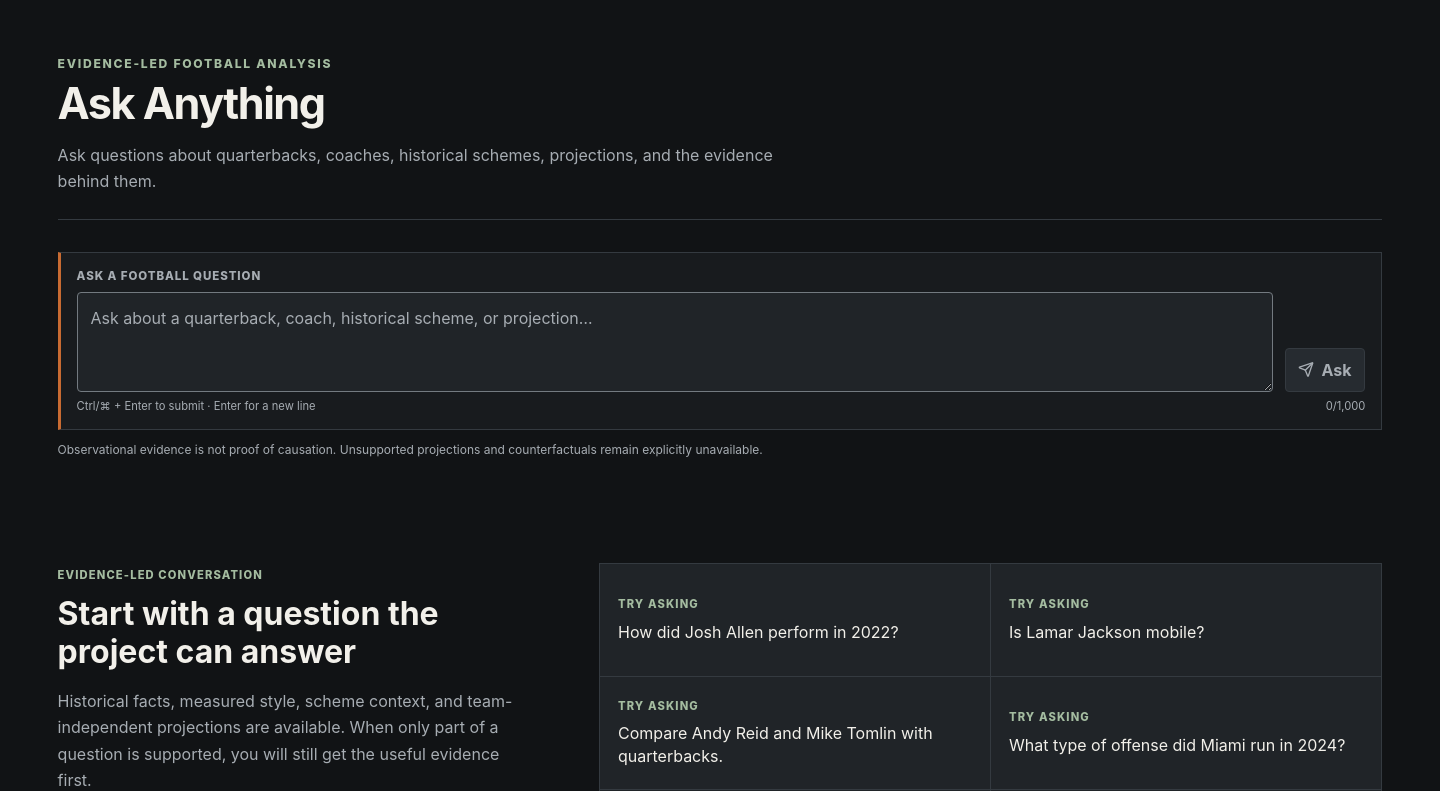
Ask Anything v2 › renders a complete unsupported answer as a scientific limit, not a broken page
Type "Project a rookie quarterback" into the text box labelled "Ask a football question" at point(675, 342), box x1=77 y1=292 x2=1273 y2=392
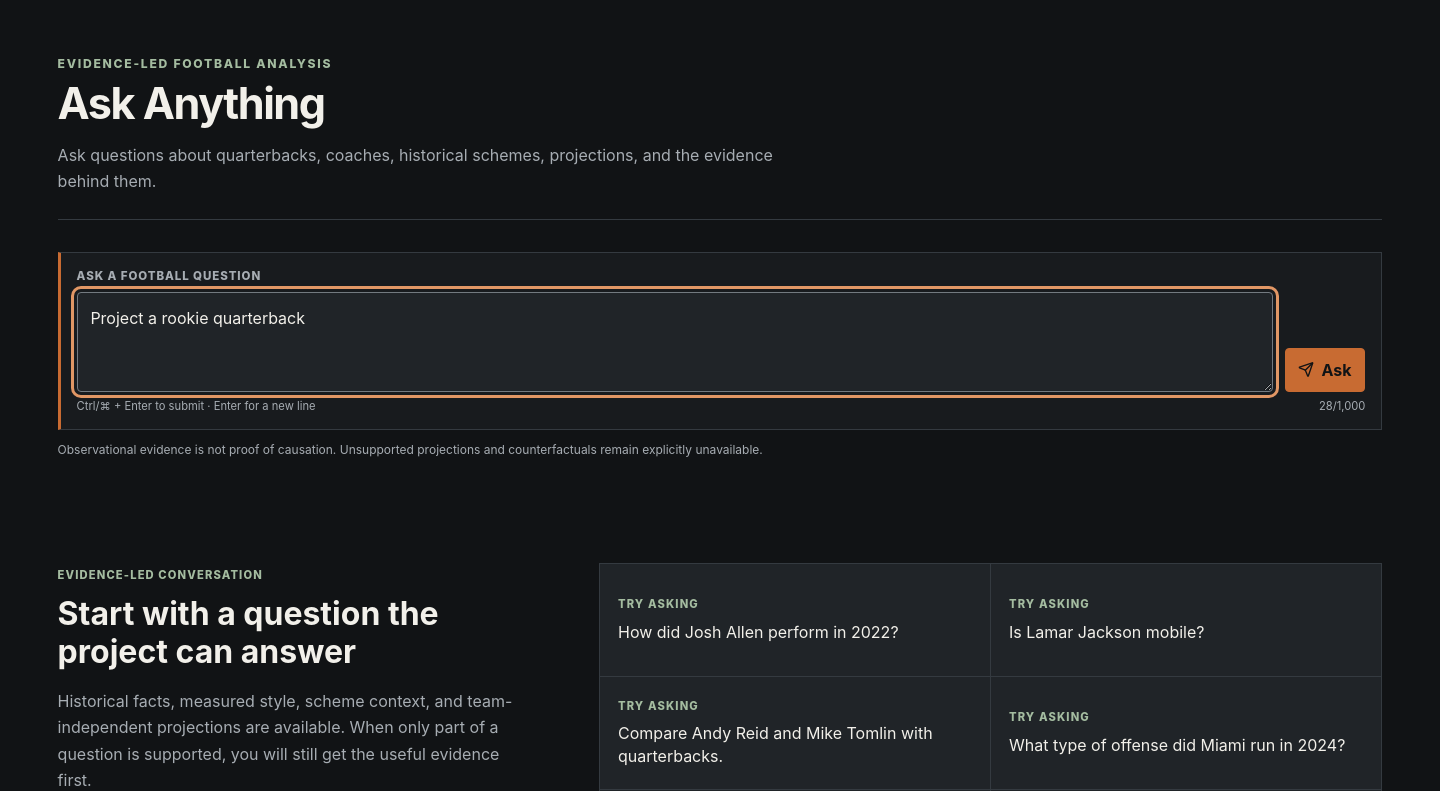
Click the button "Ask" at point(1325, 370), box x1=1285 y1=348 x2=1365 y2=392
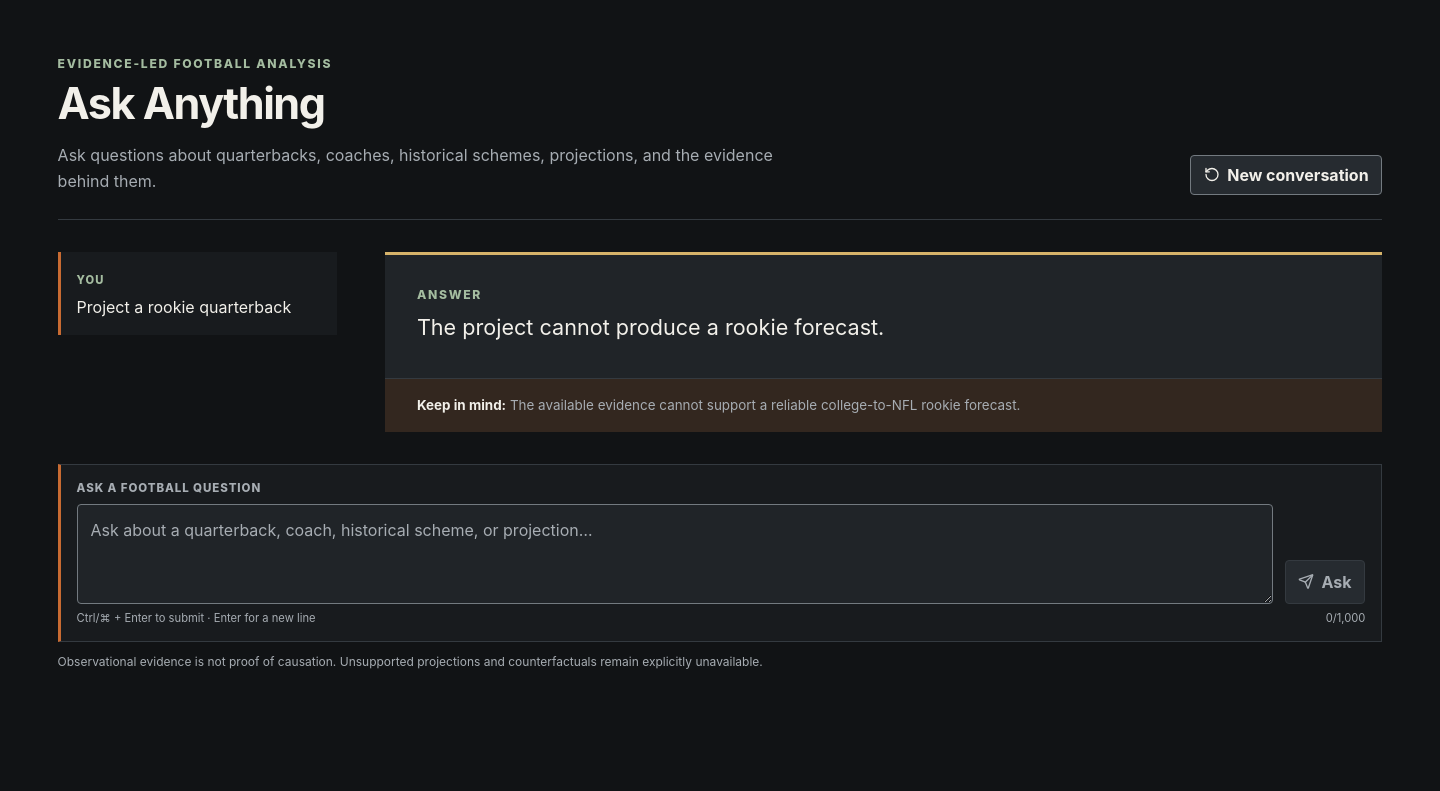
Check: the text "The project cannot produce a rookie forecast." is shown, box x1=417 y1=314 x2=884 y2=340
Check: the text "cannot support a reliable college-to-NFL" is shown, box x1=510 y1=397 x2=1020 y2=413
